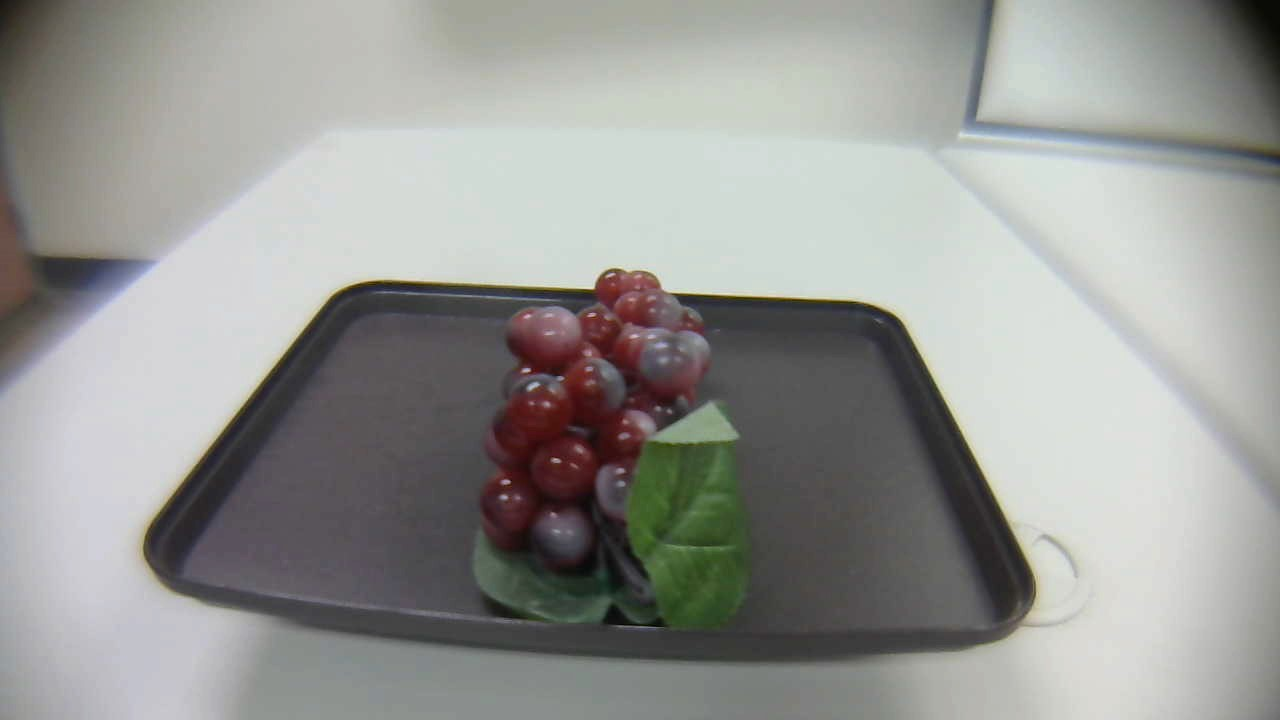grape: (454, 255, 757, 638)
